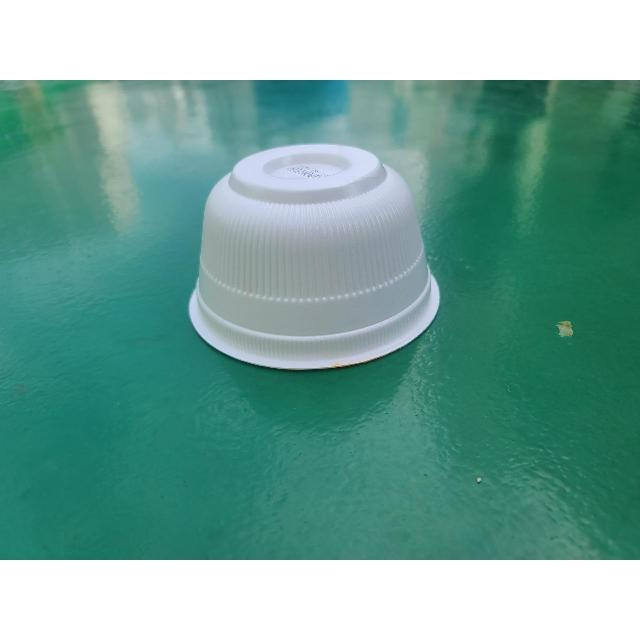Recipiente plastico: (189, 144, 439, 369)
